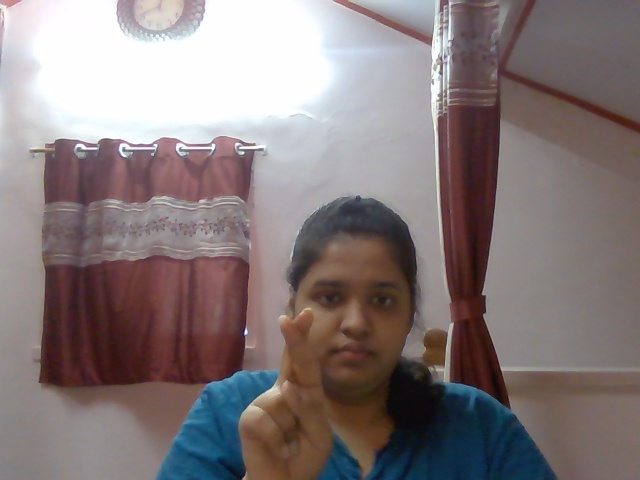r: (238, 296, 334, 470)
